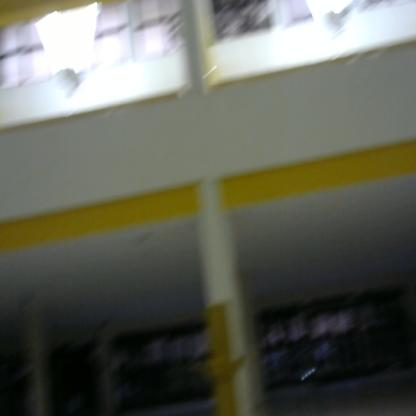pole: (190, 298, 249, 416)
